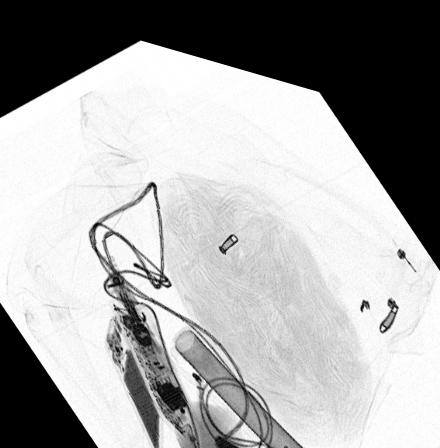Powerbank: (100, 309, 162, 448)
